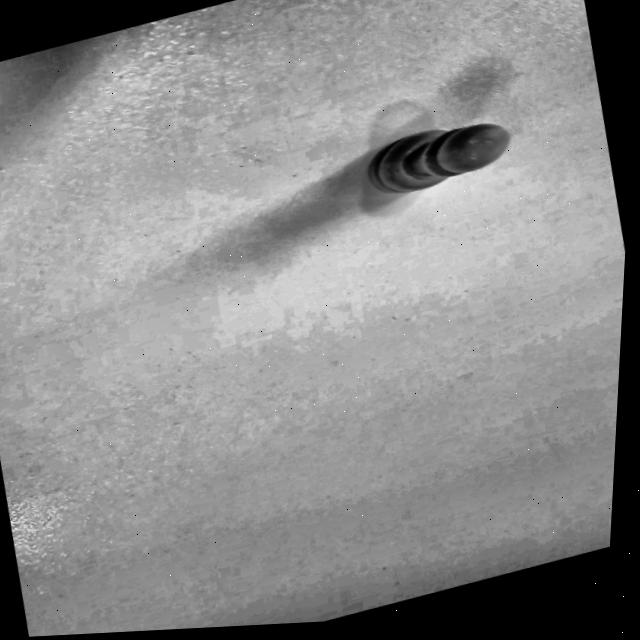white-pawn: (332, 55, 564, 224)
